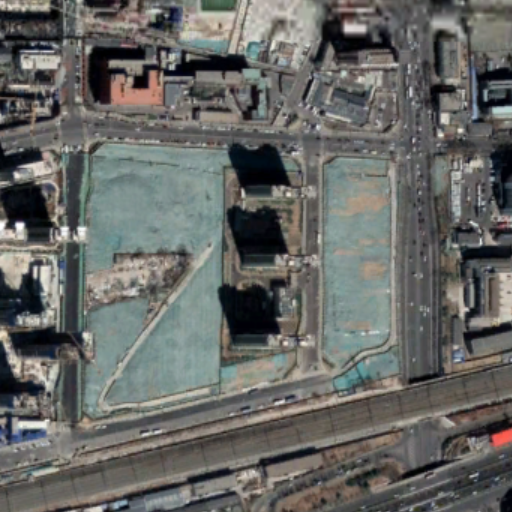cw: (73, 145, 223, 424), (319, 154, 393, 377)
